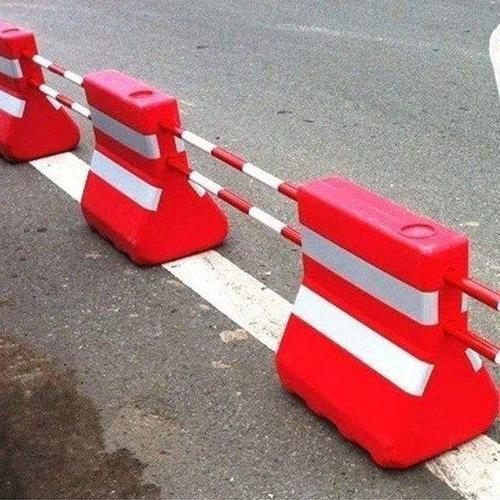cone_barrel: (265, 148, 499, 464), (75, 56, 224, 257)
